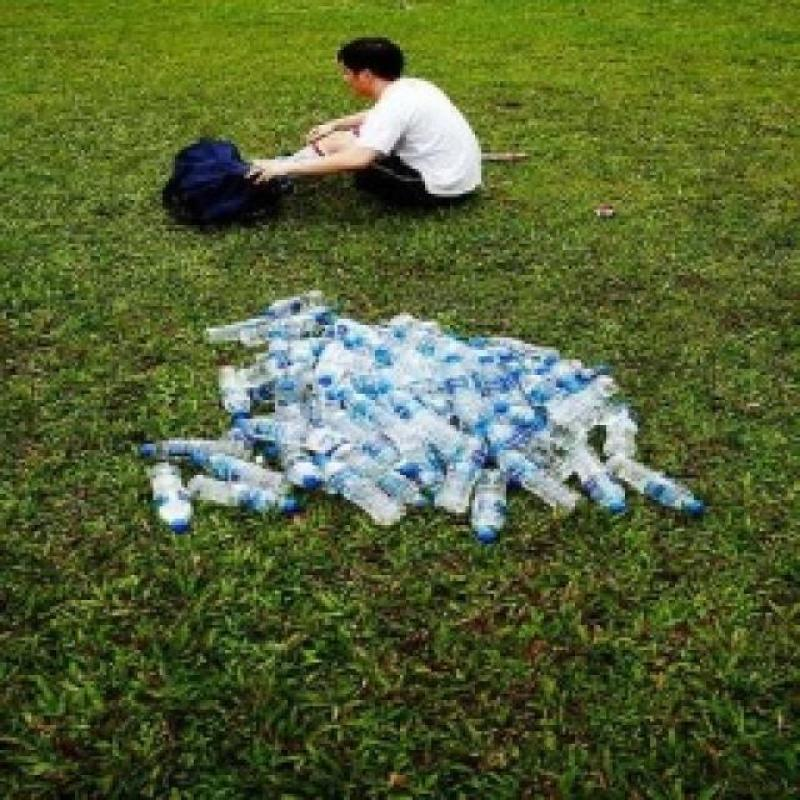botella: (334, 442, 431, 514), (318, 458, 404, 532), (492, 448, 580, 514), (512, 367, 594, 433), (181, 472, 291, 516), (194, 452, 291, 496), (569, 446, 629, 514), (390, 392, 462, 448), (436, 435, 486, 514), (140, 466, 196, 528), (547, 359, 601, 422), (388, 442, 447, 496), (140, 436, 245, 462), (472, 467, 509, 539), (442, 366, 480, 428), (273, 440, 321, 488), (603, 401, 641, 461), (236, 416, 308, 445), (338, 387, 388, 428), (214, 370, 251, 424), (494, 404, 554, 436), (203, 316, 275, 340), (235, 323, 316, 342), (484, 423, 531, 454), (366, 330, 403, 368), (478, 348, 507, 396), (330, 312, 360, 340), (500, 344, 516, 378)
